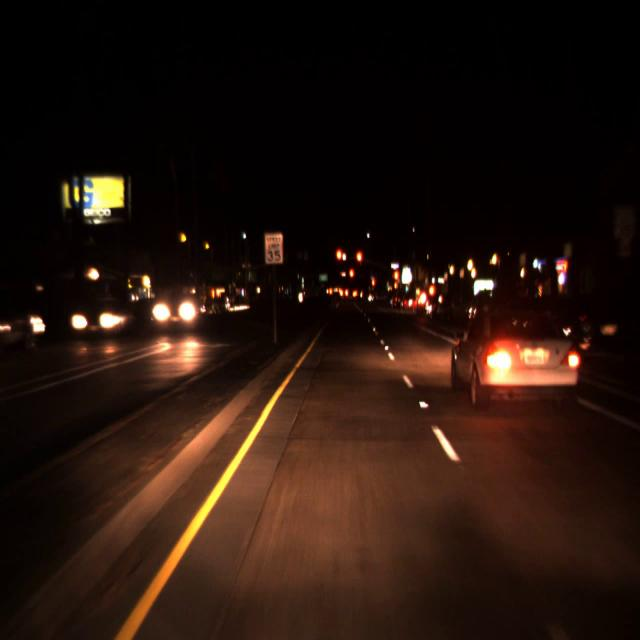stop: (334, 247, 344, 275), (355, 249, 363, 274), (392, 268, 400, 293), (348, 267, 354, 289), (372, 276, 376, 294)
stop traffic light: (334, 247, 344, 275), (355, 249, 363, 274), (392, 268, 400, 293), (348, 267, 354, 289), (372, 276, 376, 294)
